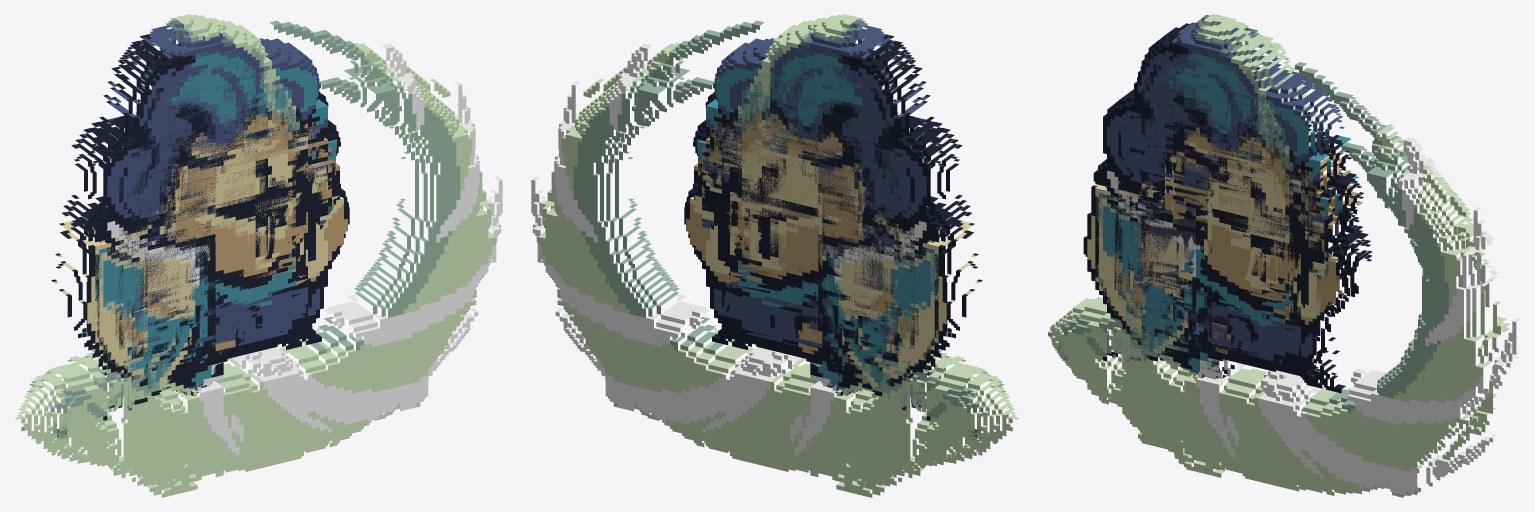
File: guerreiro_golpe1.glb
The picture shows the model from 3 angles, left to right: view 1: azimuth 30°, elevation 25°; view 2: azimuth 150°, elevation 25°; view 3: azimuth 330°, elevation 25°; orthographic projection. The views are drawn at different scales.
Visible parts, largest first — view 1: q2, q0, q1, q3; view 2: q2, q0, q1, q3; view 3: q2, q0, q1, q3.
Boxes of the visible parts, box(x1,y1,x2,y2) form: q2: box(15, 20, 502, 487); q0: box(62, 18, 340, 388); q1: box(51, 14, 328, 378); q3: box(18, 38, 459, 497); q2: box(531, 20, 1018, 487); q0: box(693, 18, 971, 387); q1: box(705, 14, 982, 378); q3: box(579, 38, 1015, 497); q2: box(1048, 45, 1520, 497); q0: box(1095, 25, 1363, 388); q1: box(1083, 14, 1359, 382); q3: box(1048, 67, 1496, 490).
Bounding box in the file's own units: 120 × 112 × 14.
1 material, 1 textured.
